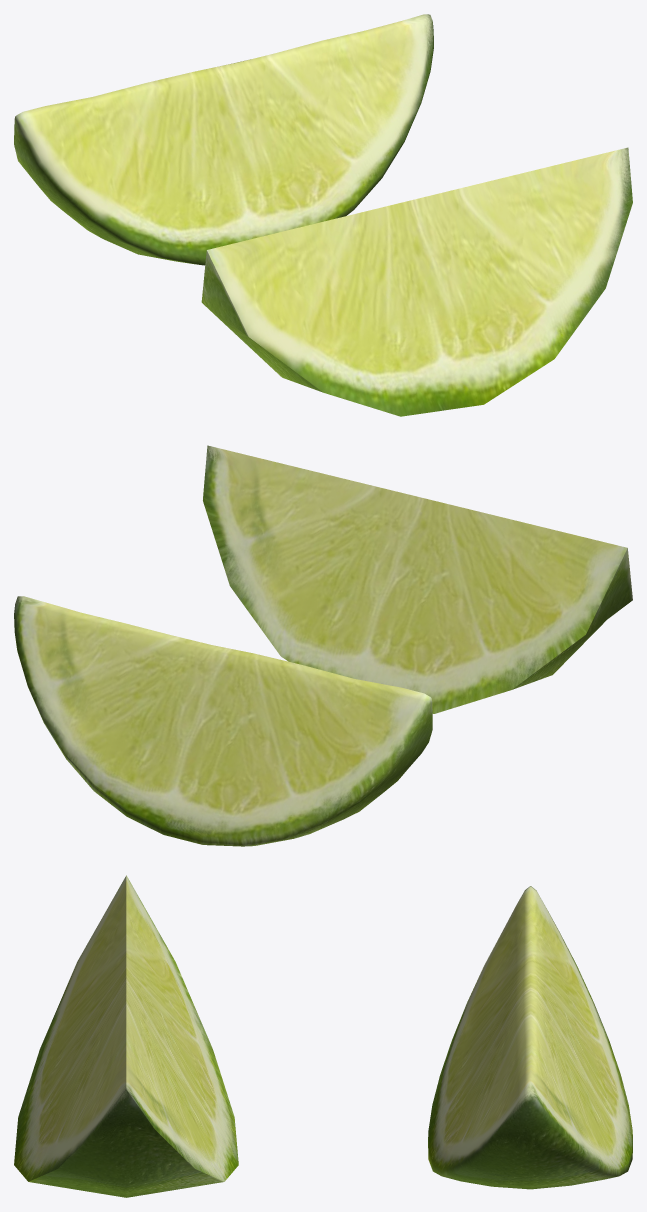
File: limes.fbx
3 views of the same model, one above another, from view 1: azimuth 30°, elevation 25°; view 2: azimuth 150°, elevation 25°; view 3: azimuth 270°, elevation 25° (orthographic). The views are drawn at different scales.
Visible parts, largest first — view 1: 92498_lime_wedge_1_1.001, 92498_lime_wedge_1_1.002; view 2: 92498_lime_wedge_1_1.001, 92498_lime_wedge_1_1.002; view 3: 92498_lime_wedge_1_1.001, 92498_lime_wedge_1_1.002.
Part boxes in pixels (box(x1,y1,x2,y2)): 92498_lime_wedge_1_1.001: box(201, 147, 632, 416); 92498_lime_wedge_1_1.002: box(14, 14, 433, 265); 92498_lime_wedge_1_1.001: box(203, 445, 632, 713); 92498_lime_wedge_1_1.002: box(14, 596, 432, 846); 92498_lime_wedge_1_1.001: box(14, 875, 238, 1197); 92498_lime_wedge_1_1.002: box(428, 886, 632, 1189).
Size of the model in its own units: 82.82 by 34.7 by 101.
